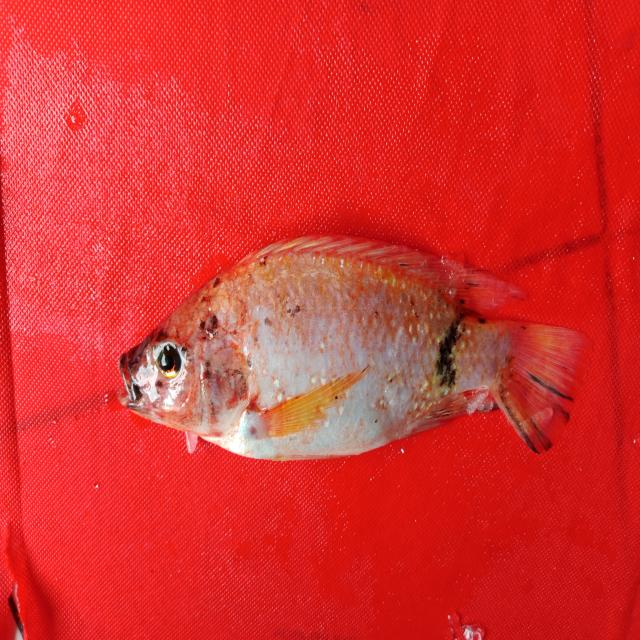ikan: (116, 231, 591, 463)
